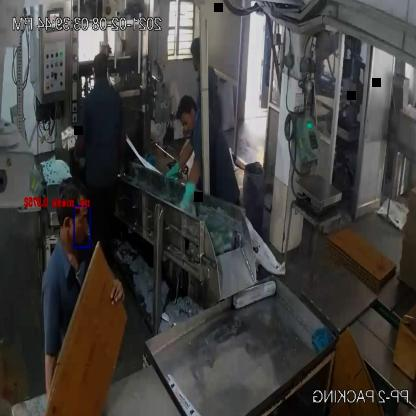glove: (181, 160, 203, 221)
no_glove: (43, 329, 61, 407), (108, 274, 127, 318)
